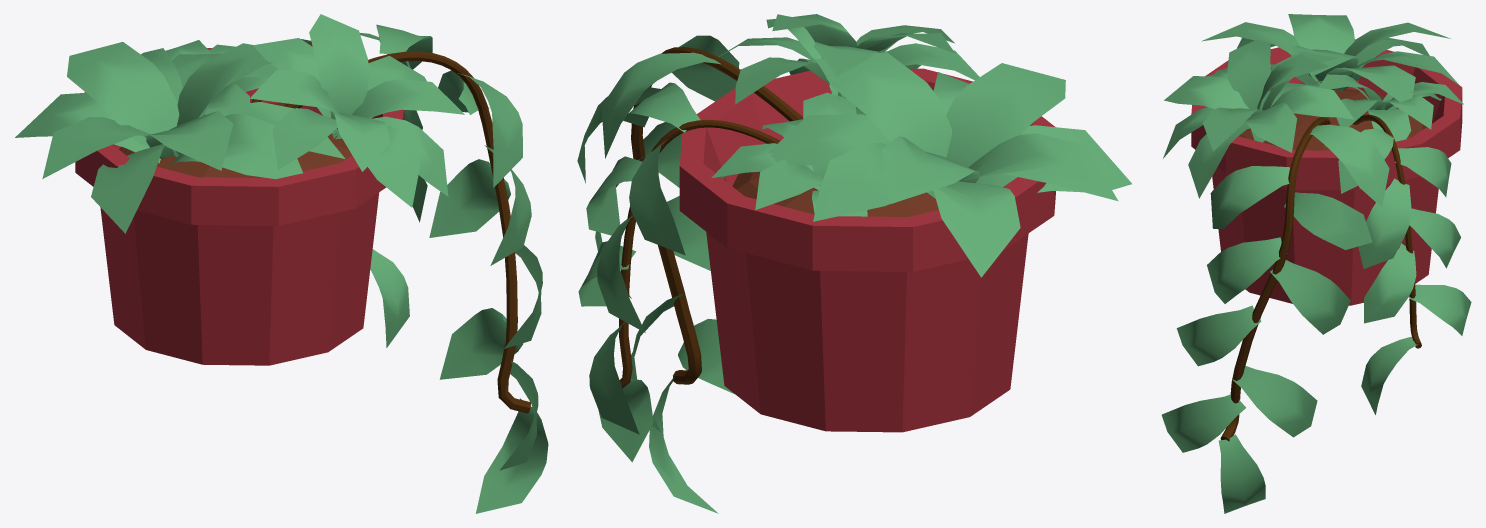
File: msh_plants_01.fbx
3 renders of one model, left to right at view 1: azimuth 30°, elevation 25°; view 2: azimuth 150°, elevation 25°; view 3: azimuth 270°, elevation 25°, orthographic. The views are drawn at different scales.
Parts seen in each view (by area): view 1: pCylinder16, pPlane154, polySurface4, pPlane126, pPlane138, pPlane133, pPlane157, pPlane136, pPlane159, pPlane161, pPlane156, pPlane158 (+21 smaller); view 2: pCylinder16, pPlane158, pPlane161, pPlane156, pPlane155, pPlane153, pPlane152, polySurface4, pPlane154, pPlane129, pPlane139, polySurface5 (+27 smaller); view 3: pCylinder16, pPlane136, pPlane133, pPlane129, pPlane131, polySurface4, pPlane135, pPlane132, pPlane134, pPlane137, pPlane140, pPlane142 (+29 smaller).
Part boxes in pixels (bbox=[...]): pCylinder16: bbox=[75, 48, 404, 365]; pPlane154: bbox=[67, 42, 179, 147]; polySurface4: bbox=[283, 51, 530, 413]; pPlane126: bbox=[309, 14, 369, 134]; pPlane138: bbox=[475, 398, 548, 513]; pPlane133: bbox=[429, 159, 510, 237]; pPlane157: bbox=[91, 144, 180, 233]; pPlane136: bbox=[439, 308, 523, 379]; pPlane159: bbox=[170, 113, 302, 179]; pPlane161: bbox=[177, 43, 273, 125]; pPlane156: bbox=[42, 117, 178, 178]; pPlane158: bbox=[146, 111, 233, 170]; pCylinder16: bbox=[679, 68, 1055, 432]; pPlane158: bbox=[946, 63, 1065, 177]; pPlane161: bbox=[815, 52, 951, 157]; pPlane156: bbox=[962, 133, 1118, 201]; pPlane155: bbox=[933, 181, 1020, 277]; pPlane153: bbox=[813, 142, 889, 221]; pPlane152: bbox=[768, 114, 935, 198]; polySurface4: bbox=[631, 47, 803, 384]; pPlane154: bbox=[881, 136, 979, 204]; pPlane129: bbox=[601, 52, 720, 158]; pPlane139: bbox=[629, 139, 685, 255]; polySurface5: bbox=[619, 119, 779, 388]; pCylinder16: bbox=[1191, 47, 1462, 305]; pPlane136: bbox=[1233, 366, 1317, 437]; pPlane133: bbox=[1270, 260, 1350, 334]; pPlane129: bbox=[1310, 124, 1389, 206]; pPlane131: bbox=[1284, 192, 1372, 249]; polySurface4: bbox=[1220, 117, 1330, 441]; pPlane135: bbox=[1207, 237, 1287, 303]; pPlane132: bbox=[1210, 166, 1289, 228]; pPlane134: bbox=[1176, 305, 1261, 366]; pPlane137: bbox=[1161, 394, 1245, 452]; pPlane140: bbox=[1358, 178, 1411, 268]; pPlane142: bbox=[1364, 243, 1416, 323].
Bounding box in the file's own units: 1.01 × 1.03 × 0.72.
